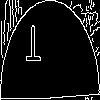T: (25, 24, 41, 71)
